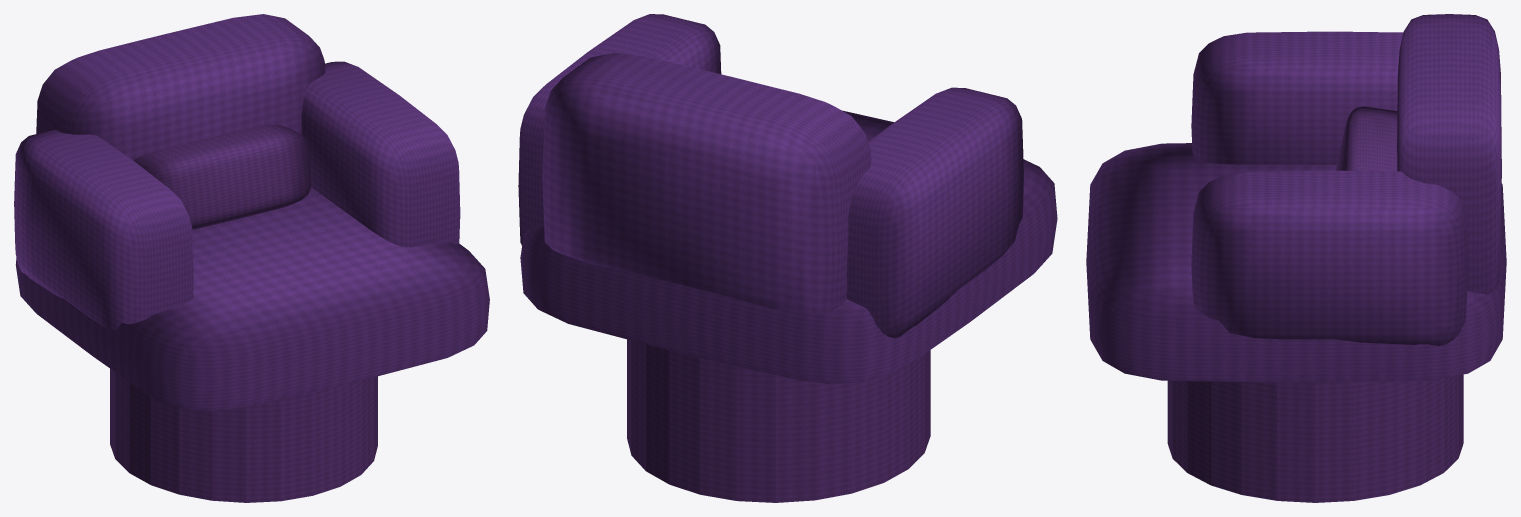
The picture shows the model from 3 angles, left to right: view 1: azimuth 30°, elevation 25°; view 2: azimuth 150°, elevation 25°; view 3: azimuth 270°, elevation 25°; orthographic projection. The views are drawn at different scales.
Visible parts, largest first — view 1: 2 seat, 3 backrest, 4 left_armrest, 1 swivel_base, 5 right_armrest, 6 lumbar_pillow; view 2: 3 backrest, 1 swivel_base, 2 seat, 4 left_armrest, 5 right_armrest; view 3: 5 right_armrest, 2 seat, 1 swivel_base, 4 left_armrest, 3 backrest, 6 lumbar_pillow.
Boxes of the visible parts, x1,y1,x2,y2 form: 2 seat: [15, 187, 489, 411]; 3 backrest: [36, 14, 325, 159]; 4 left_armrest: [14, 130, 193, 330]; 1 swivel_base: [110, 368, 377, 502]; 5 right_armrest: [301, 61, 460, 247]; 6 lumbar_pillow: [133, 124, 310, 230]; 3 backrest: [542, 52, 871, 313]; 1 swivel_base: [627, 339, 930, 502]; 2 seat: [520, 110, 1057, 384]; 4 left_armrest: [847, 87, 1023, 338]; 5 right_armrest: [518, 14, 721, 245]; 5 right_armrest: [1191, 170, 1468, 345]; 2 seat: [1086, 143, 1506, 382]; 1 swivel_base: [1167, 374, 1463, 502]; 4 left_armrest: [1191, 31, 1403, 164]; 3 backrest: [1397, 14, 1501, 294]; 6 lumbar_pillow: [1336, 106, 1397, 171].
Bounding box in the file's own units: 0.701 × 0.701 × 0.701.
2 materials, 2 textured.
